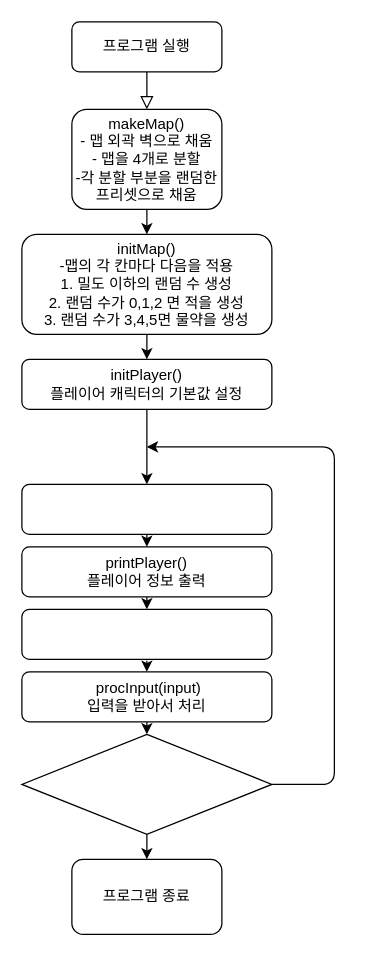
The diagram is 366 pixels wide and 956 high, and some of its shapes have lost their labels. The shapes that lost their labels are listed below. From the top down, each one's box as (x1, y1, x2, y2) in pixels, then its label:
(21, 483, 272, 534): printMap() 맵 출력
(21, 608, 272, 659): printDisc() 입력에 도움이 되는 설명 출력
(21, 733, 272, 834): procInput이 -1을 반환하는가?
